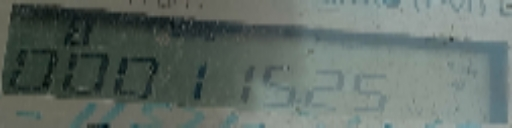0: (107, 43, 165, 107), (7, 35, 58, 98), (64, 42, 108, 100)
1: (235, 58, 257, 113), (190, 48, 210, 108)
2: (311, 59, 346, 115)
5: (257, 51, 296, 123), (352, 59, 392, 119)
d: (294, 98, 306, 109)
